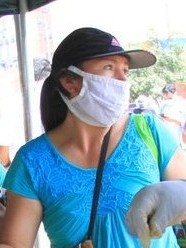with_mask: (63, 37, 141, 125)
